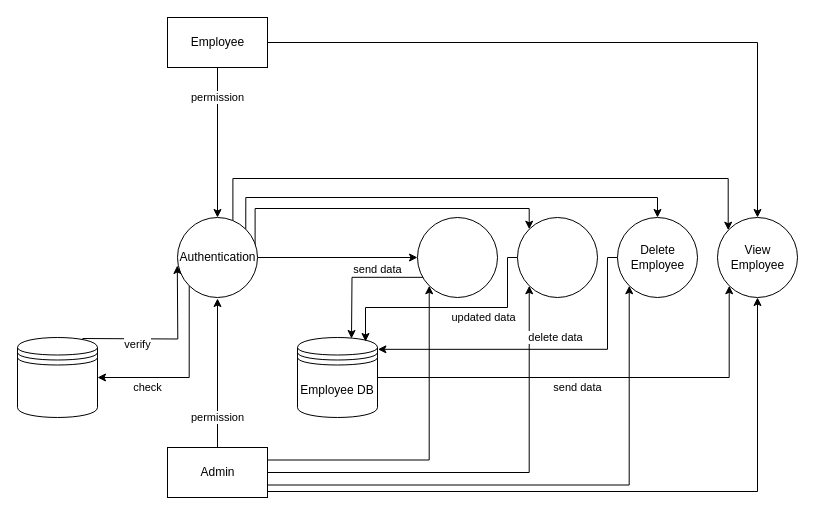
The diagram is 815 pixels wide and 517 high, and some of its shapes have lost their labels. The box of each missing label's shape, as (x1, y1, x2, y2) in pixels:
Add Employee: (416, 216, 498, 298)
login db: (16, 336, 98, 418)
Update Employee: (516, 216, 598, 298)
